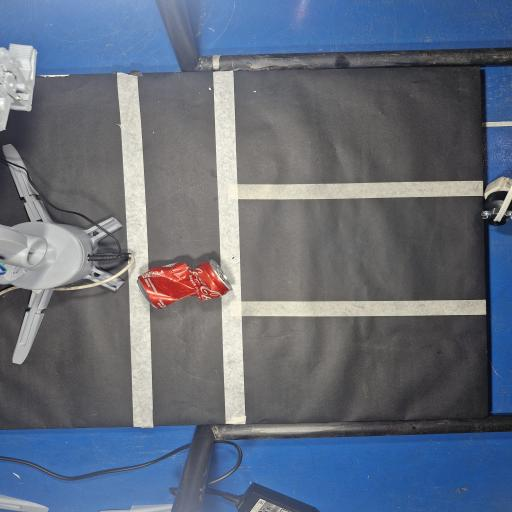lata_defectuoso: (138, 260, 231, 309)
